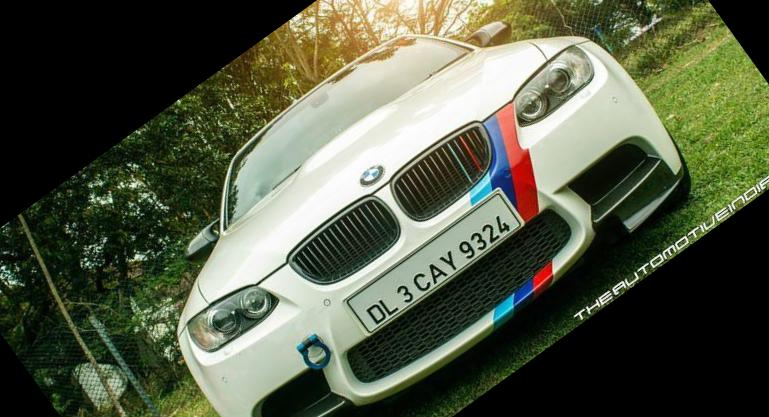plate: (338, 187, 534, 352)
